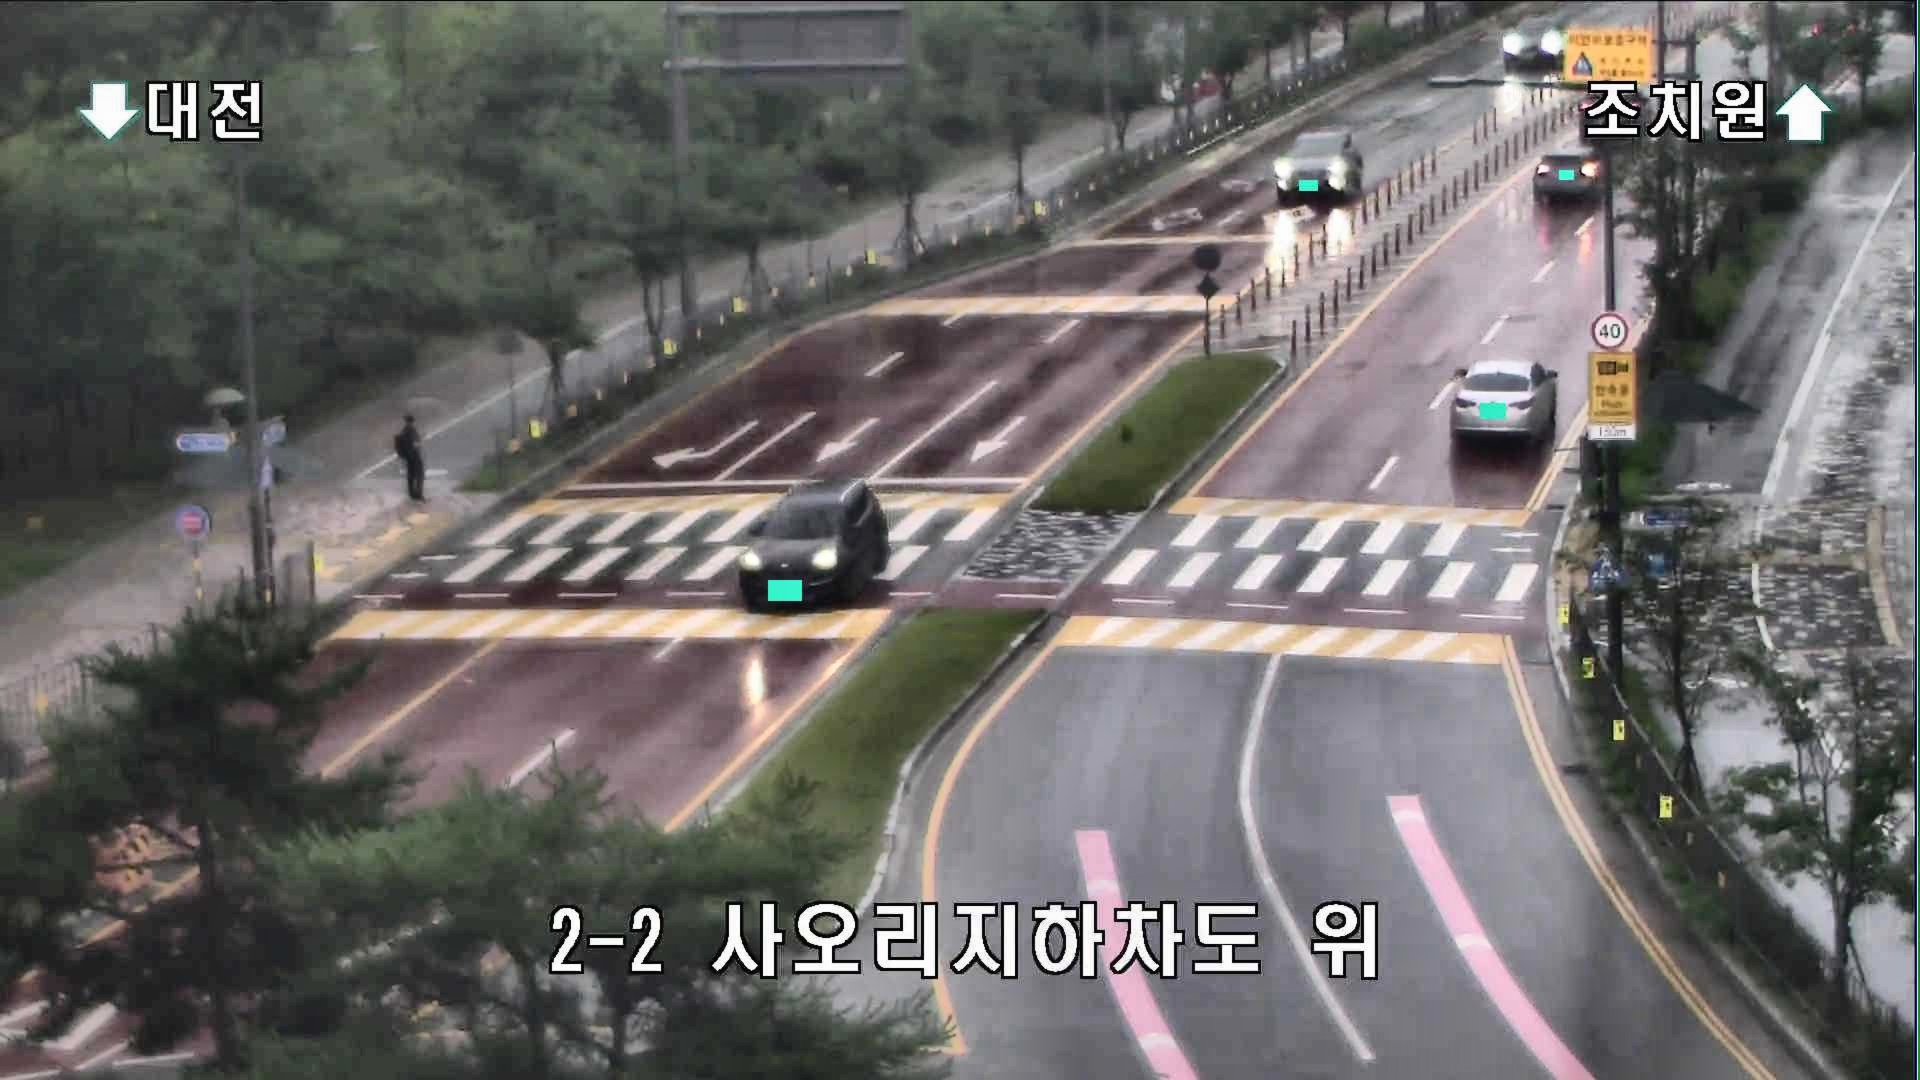um_sidewalk: (388, 396, 455, 506), (199, 381, 244, 469)
